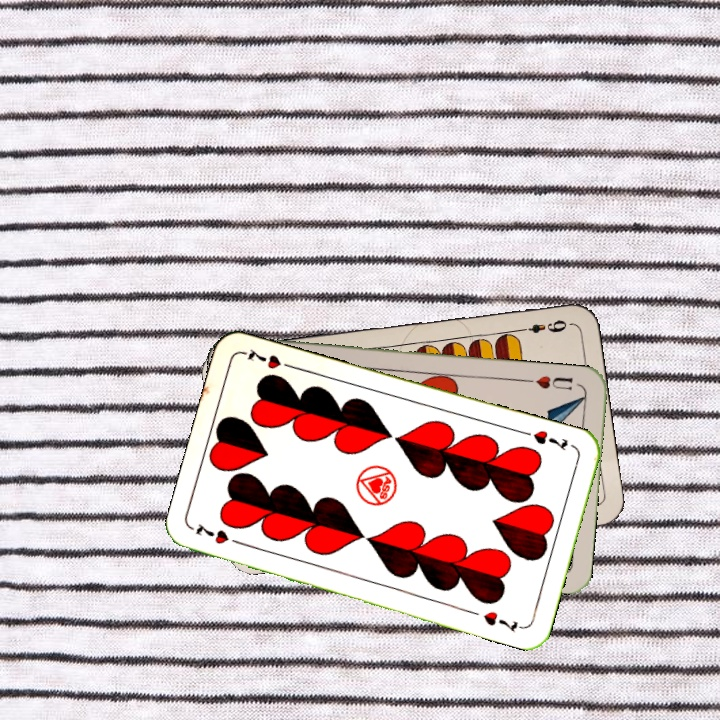E9: (513, 315, 573, 336)
H7: (191, 520, 247, 549), (518, 426, 570, 454)
HU: (522, 371, 575, 393)
